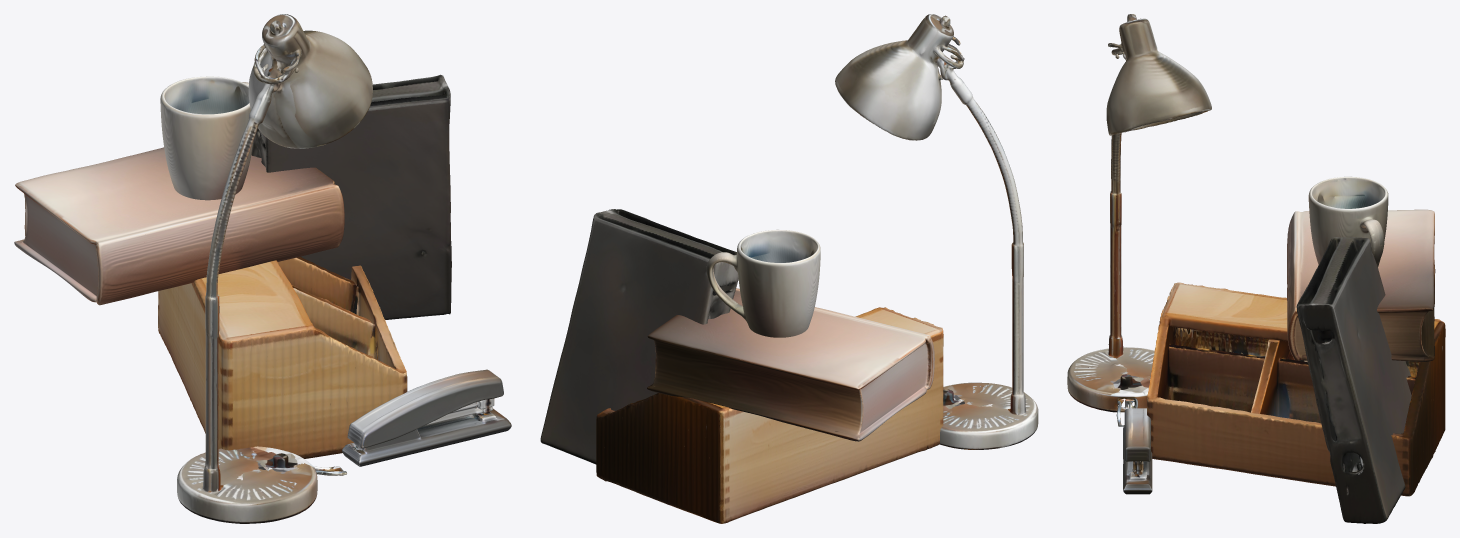
The model's file is midi_textured.glb.
3 views of the same model, side by side, from view 1: azimuth 30°, elevation 25°; view 2: azimuth 150°, elevation 25°; view 3: azimuth 270°, elevation 25° (orthographic). The views are drawn at different scales.
Visible parts, largest first — view 1: geometry_0e6f207764700, geometry_0df5d8adeb1c4, geometry_0dd4730e4a445, geometry_05e1b912a0664, geometry_0fb47900225cb, geometry_0; view 2: geometry_0e6f207764700, geometry_0df5d8adeb1c4, geometry_05e1b912a0664, geometry_0dd4730e4a445, geometry_0; view 3: geometry_0e6f207764700, geometry_05e1b912a0664, geometry_0dd4730e4a445, geometry_0df5d8adeb1c4, geometry_0, geometry_0fb47900225cb.
Boxes of the visible parts, x1,y1,x2,y2 form: geometry_0e6f207764700: (158,256,407,458); geometry_0df5d8adeb1c4: (14,147,344,305); geometry_0dd4730e4a445: (177,14,372,523); geometry_05e1b912a0664: (251,74,451,319); geometry_0fb47900225cb: (342,369,511,466); geometry_0: (160,76,253,200); geometry_0e6f207764700: (596,307,943,523); geometry_0df5d8adeb1c4: (647,288,934,441); geometry_05e1b912a0664: (540,209,738,464); geometry_0dd4730e4a445: (835,14,1038,449); geometry_0: (706,229,820,337); geometry_0e6f207764700: (1147,282,1445,496); geometry_05e1b912a0664: (1296,237,1411,523); geometry_0dd4730e4a445: (1067,14,1211,426); geometry_0df5d8adeb1c4: (1287,209,1435,361); geometry_0: (1308,176,1388,266); geometry_0fb47900225cb: (1123,408,1152,494).
Size of the model in its own units: 1.74 by 1.9 by 1.68.
6 materials, 6 textured.
